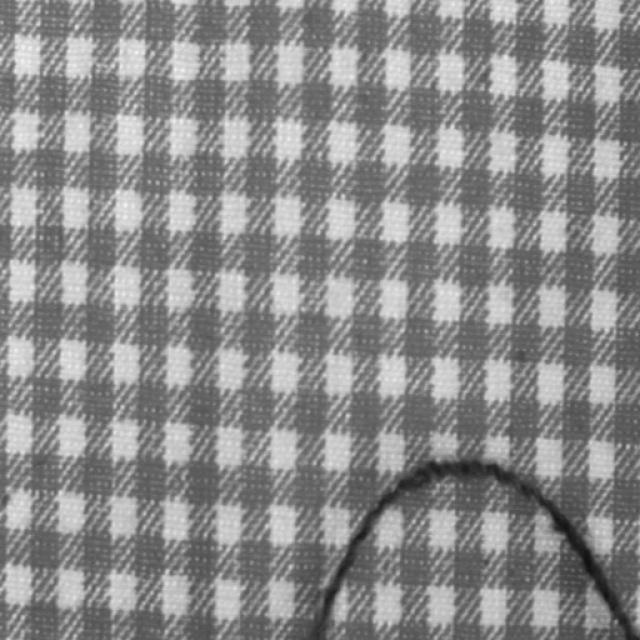Foreign-Body-Defect: (308, 458, 639, 639)
